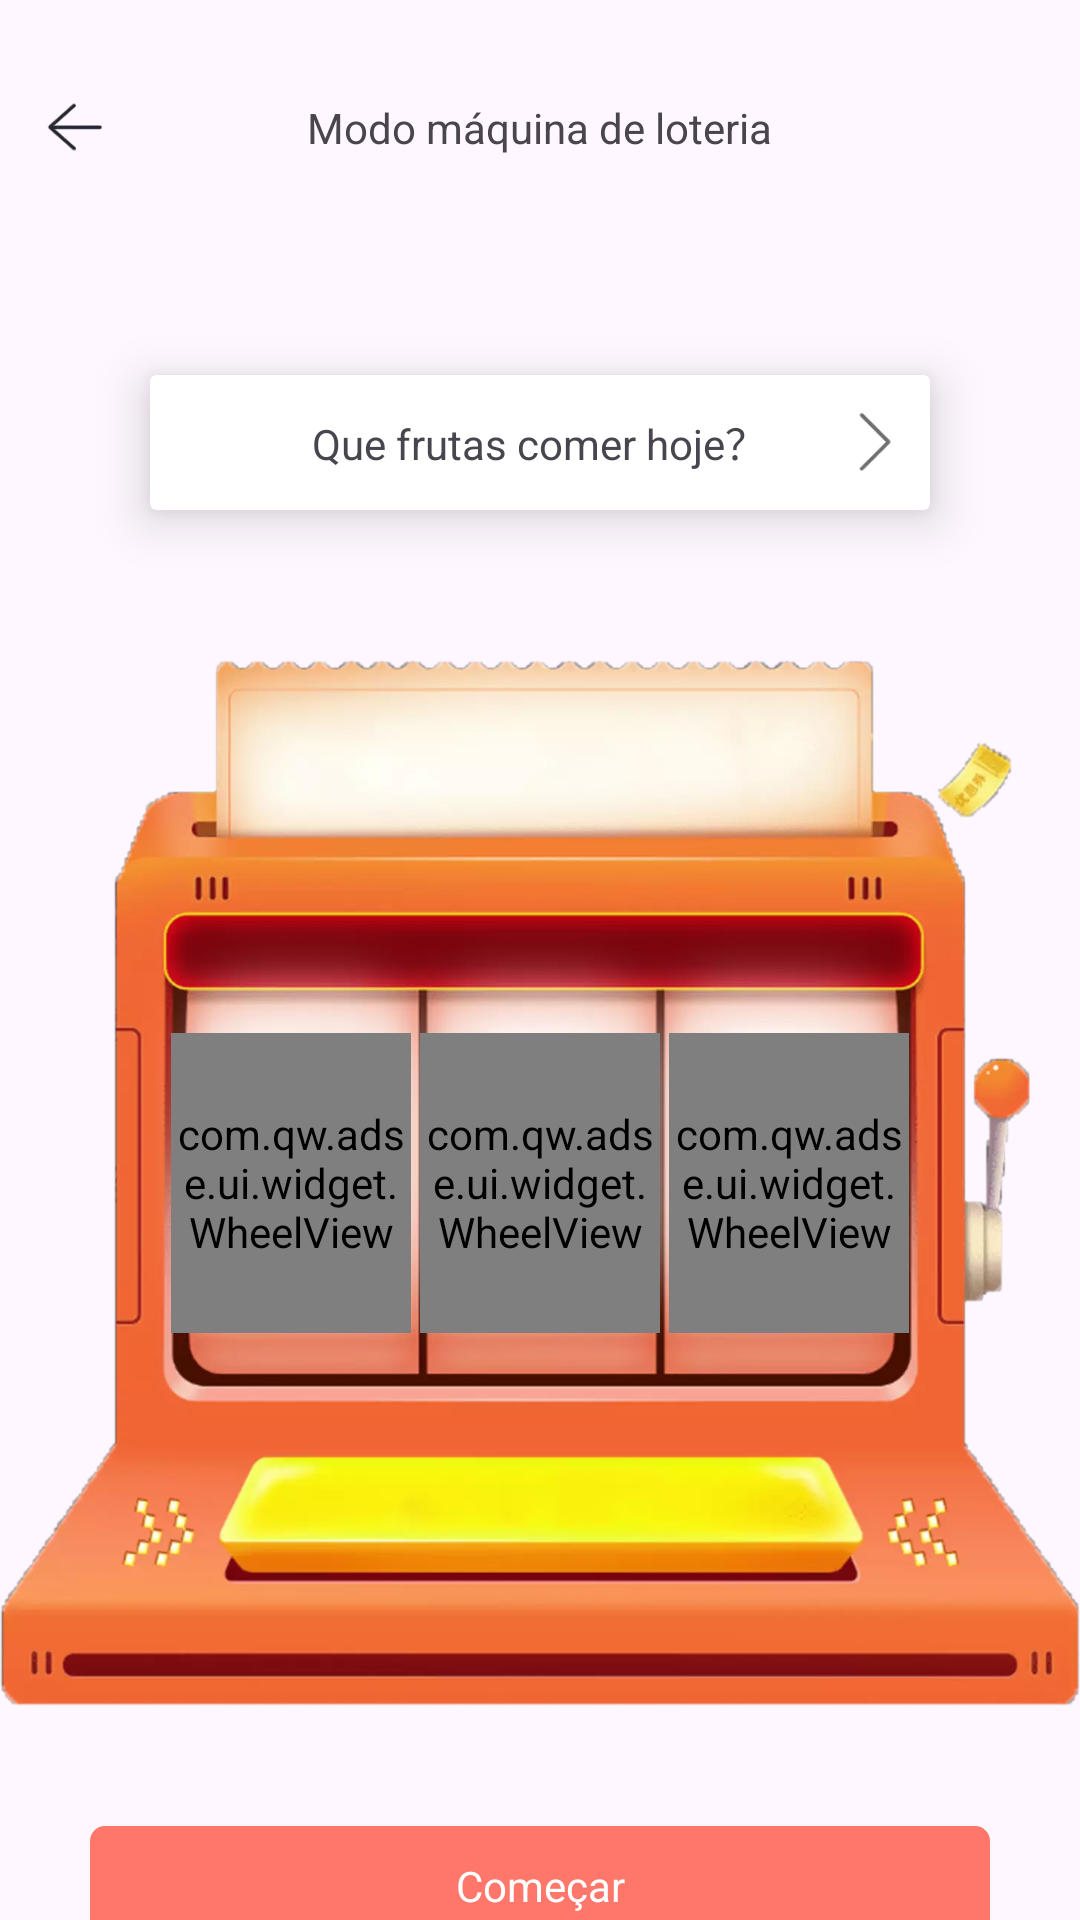

Locate icon controls on the screen. Image size 1080 × 1920, boxes as (x1, y1, x2, y2).
fanhui: (48, 103, 102, 151)
you: (859, 413, 891, 471)
